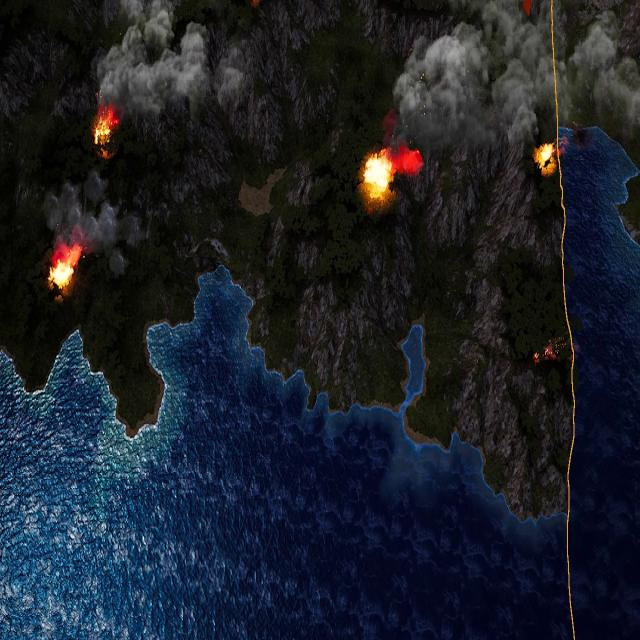fire: (50, 245, 82, 289), (364, 152, 394, 198), (94, 106, 120, 146), (532, 341, 556, 365), (535, 142, 554, 168)
smoke: (382, 0, 556, 148), (93, 1, 246, 119), (553, 3, 638, 136), (45, 168, 146, 278)
